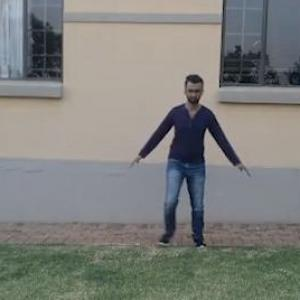land: (124, 74, 261, 254)
